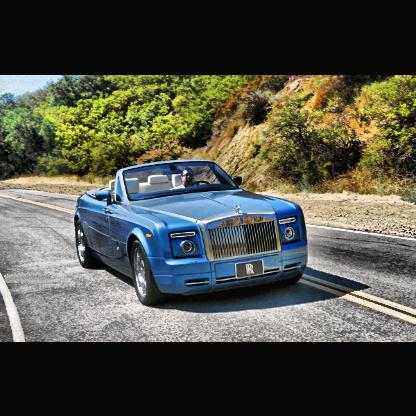Rolls-Royce Phantom Drophead Coupe Convertible 2012: (74, 160, 313, 307)
